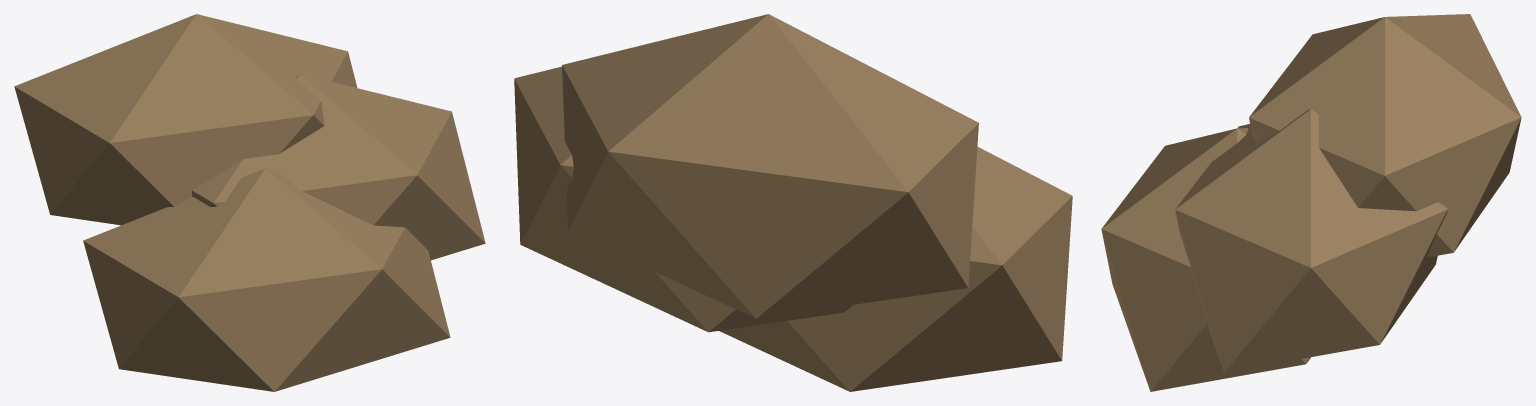
File: item_101_bog_iron_m.glb
3 views of the same model, side by side, from view 1: azimuth 30°, elevation 25°; view 2: azimuth 150°, elevation 25°; view 3: azimuth 270°, elevation 25° (orthographic). The views are drawn at different scales.
Visible parts, largest first — view 1: item_101_bog_iron_m; view 2: item_101_bog_iron_m; view 3: item_101_bog_iron_m.
Part boxes in pixels (bbox=[...]): item_101_bog_iron_m: bbox=[14, 14, 485, 391]; item_101_bog_iron_m: bbox=[514, 14, 1072, 391]; item_101_bog_iron_m: bbox=[1101, 14, 1521, 391].
Size of the model in its own units: 0.3701 by 0.306 by 0.3418.
